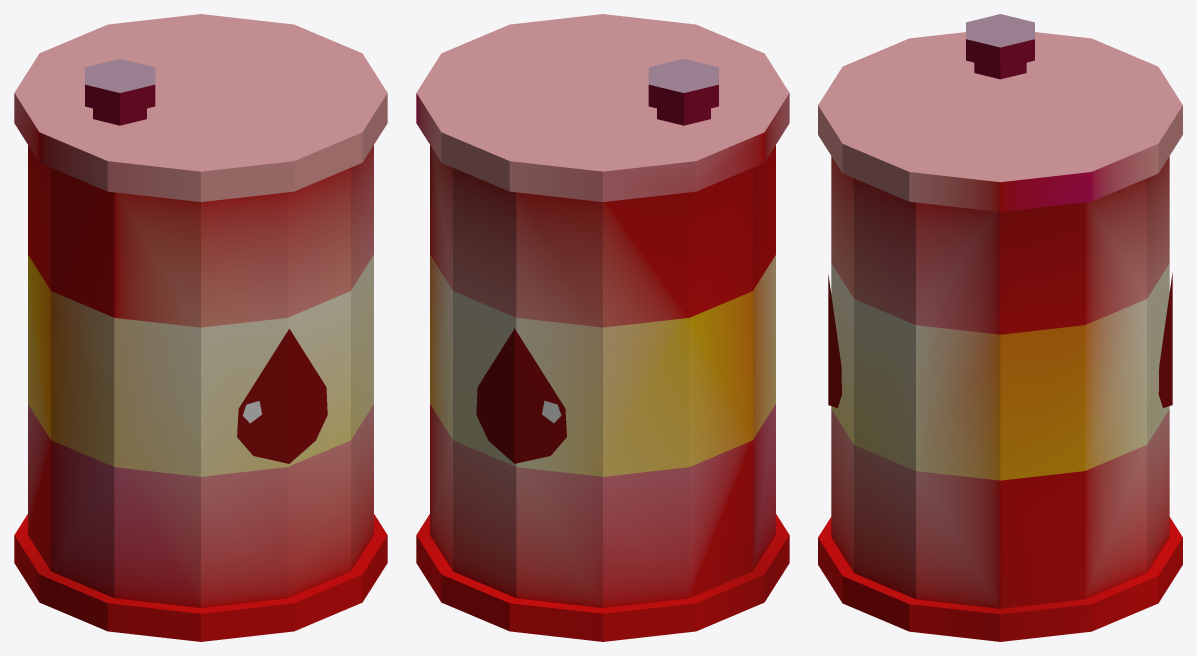
The model's file is colect_oil.glb.
3 views of the same model, side by side, from view 1: azimuth 30°, elevation 25°; view 2: azimuth 150°, elevation 25°; view 3: azimuth 270°, elevation 25° (orthographic). The views are drawn at different scales.
Parts seen in each view (by area): view 1: colect_oil; view 2: colect_oil; view 3: colect_oil.
Part boxes in pixels (x1=…): colect_oil: x1=14, y1=14, x2=387, y2=641; colect_oil: x1=416, y1=14, x2=789, y2=641; colect_oil: x1=818, y1=14, x2=1182, y2=641.
Size of the model in its own units: 0.2765 by 0.4144 by 0.2765.
